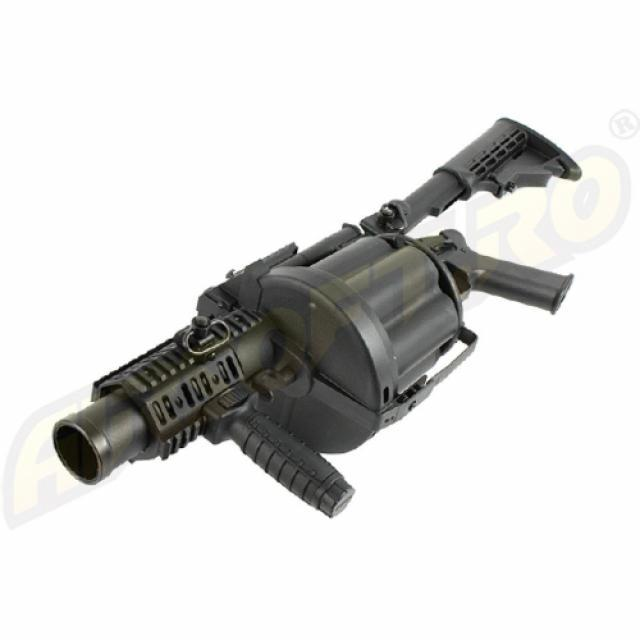rocket launcher: (36, 112, 597, 536)
